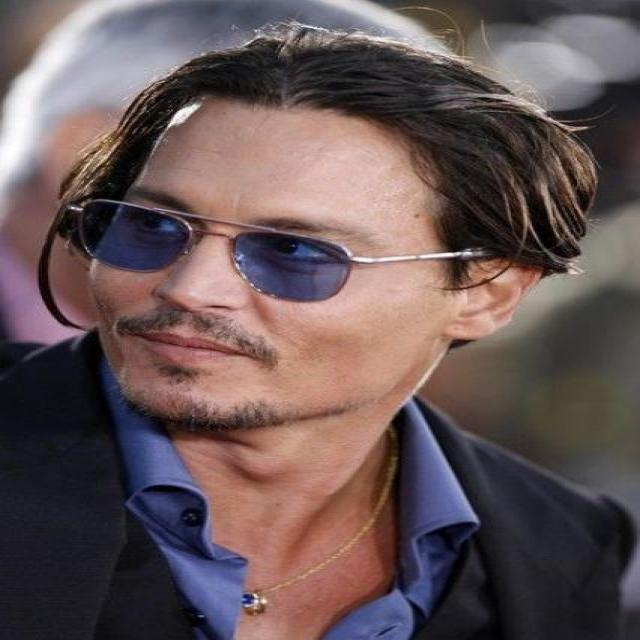glasses: (75, 197, 392, 303)
